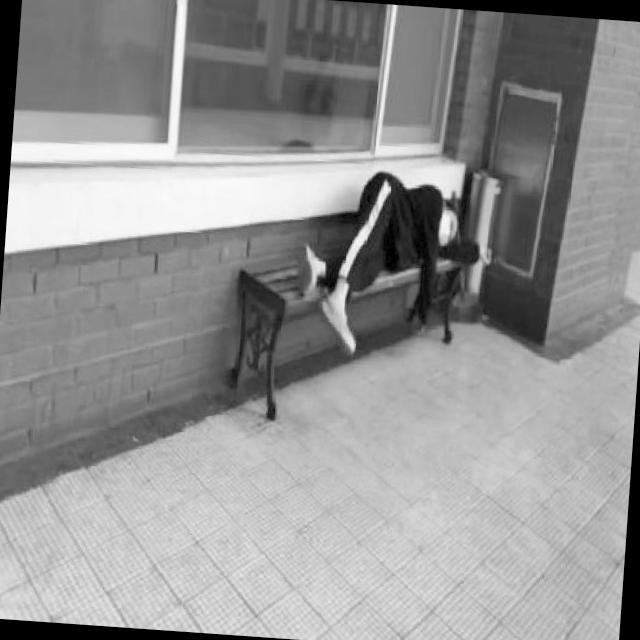person: (291, 168, 496, 346)
